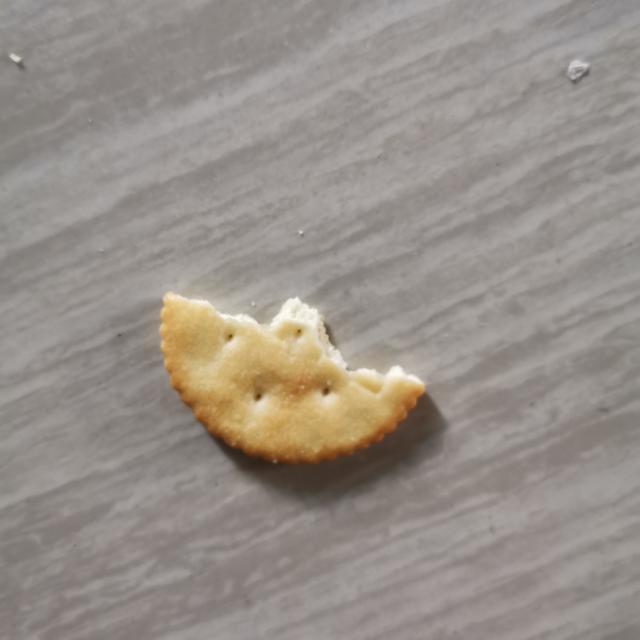Broken: (158, 290, 426, 466)
